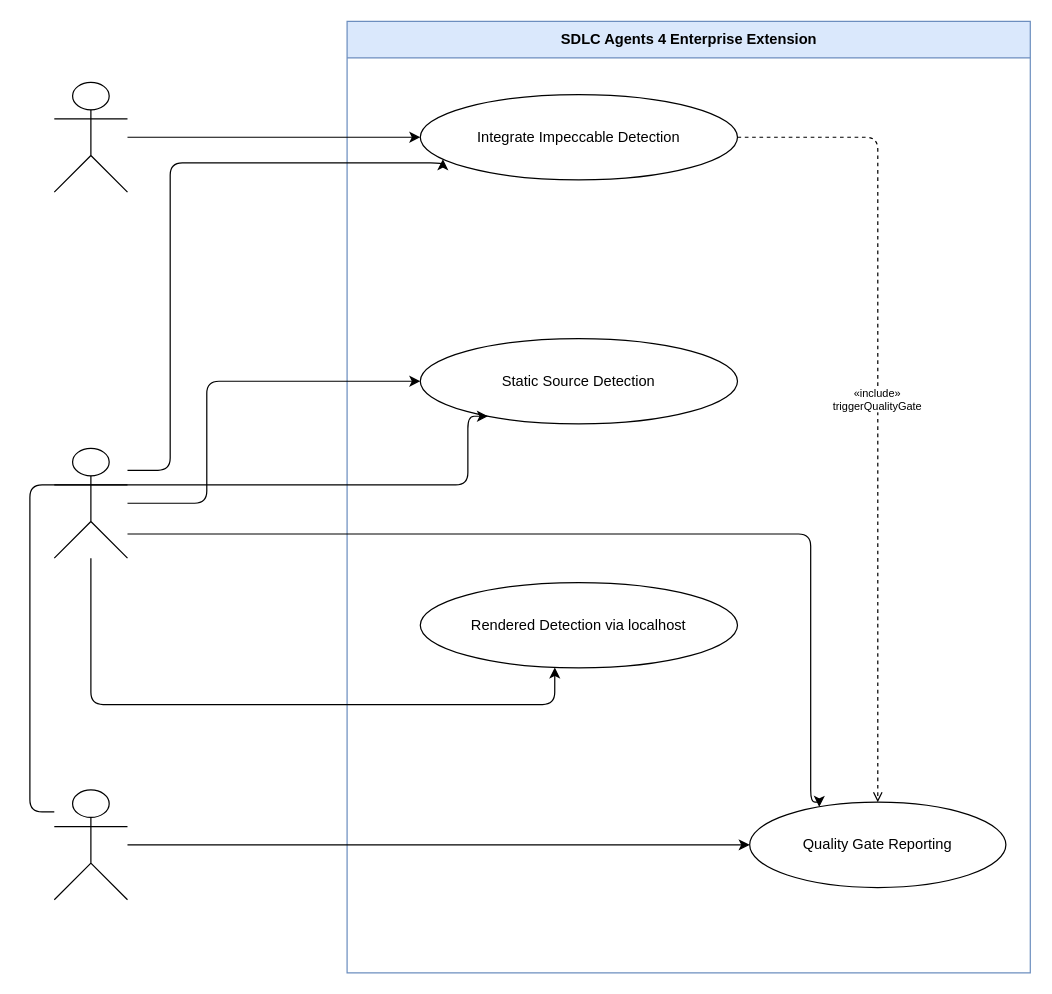
This 1052x994 diagram has some shape labels left out. The centre of each missing label's shape, as x and y in pixels:
Developer: the point at 90,502
QA Engineer: the point at 90,844
SDLC Pipeline: the point at 90,136
